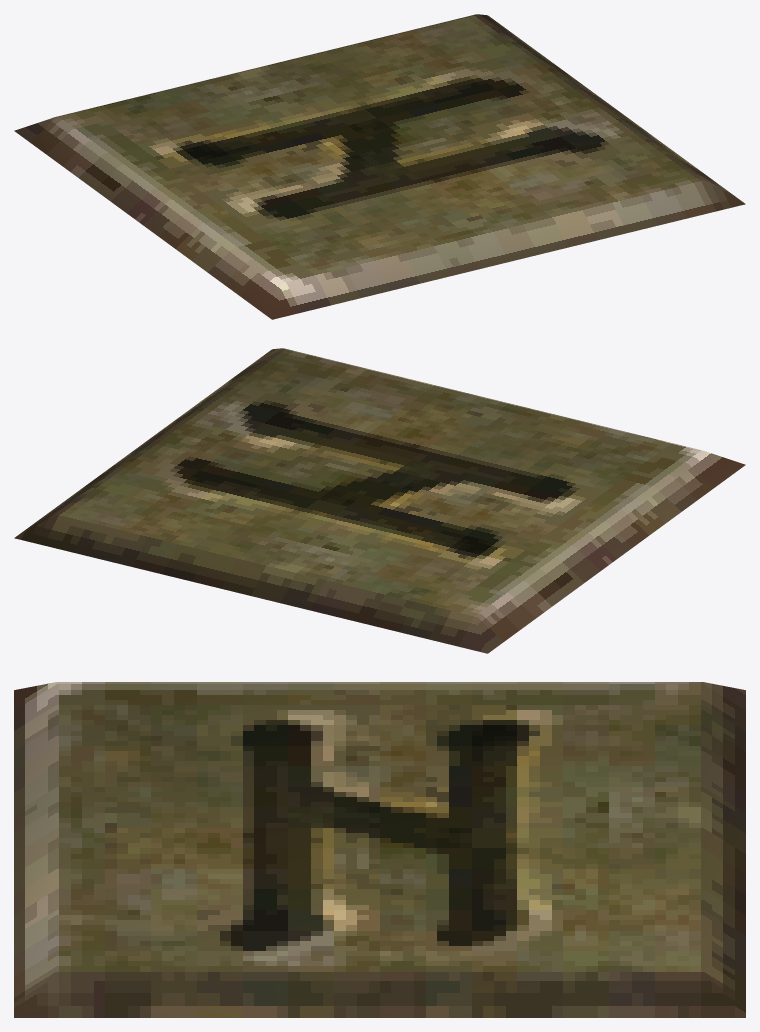
File: EREBOR_RUNE_PZL_EREBOR_PZL_TILE_STATIC17.fbx
3 views of the same model, one above another, from view 1: azimuth 30°, elevation 25°; view 2: azimuth 150°, elevation 25°; view 3: azimuth 270°, elevation 25° (orthographic). The views are drawn at different scales.
Visible parts, largest first — view 1: EREBOR_RUNE_PZL_EREBOR_PZL_TILE_STATIC17; view 2: EREBOR_RUNE_PZL_EREBOR_PZL_TILE_STATIC17; view 3: EREBOR_RUNE_PZL_EREBOR_PZL_TILE_STATIC17.
Boxes of the visible parts, x1,y1,x2,y2 form: EREBOR_RUNE_PZL_EREBOR_PZL_TILE_STATIC17: [14, 14, 745, 319]; EREBOR_RUNE_PZL_EREBOR_PZL_TILE_STATIC17: [14, 348, 745, 653]; EREBOR_RUNE_PZL_EREBOR_PZL_TILE_STATIC17: [14, 682, 745, 1017].
Size of the model in its own units: 9945 by 370 by 9386.
Materials: 1 (1 with a texture image).
